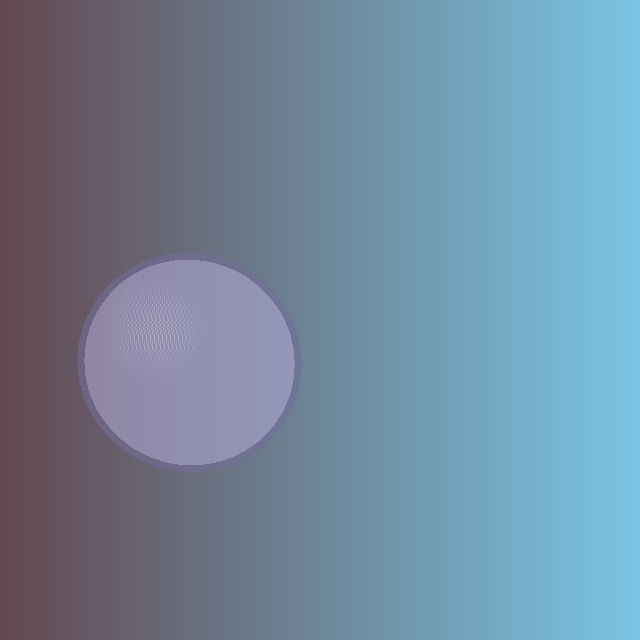lens: (81, 256, 297, 468)
